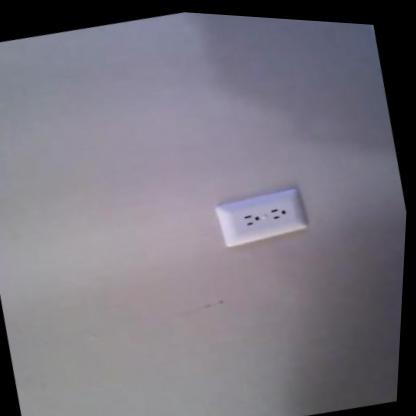OUTLET: (213, 182, 308, 255)
